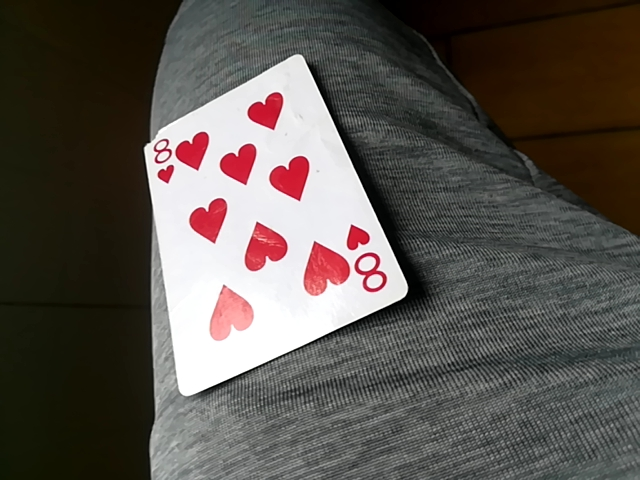hx 8: (138, 56, 411, 400)
